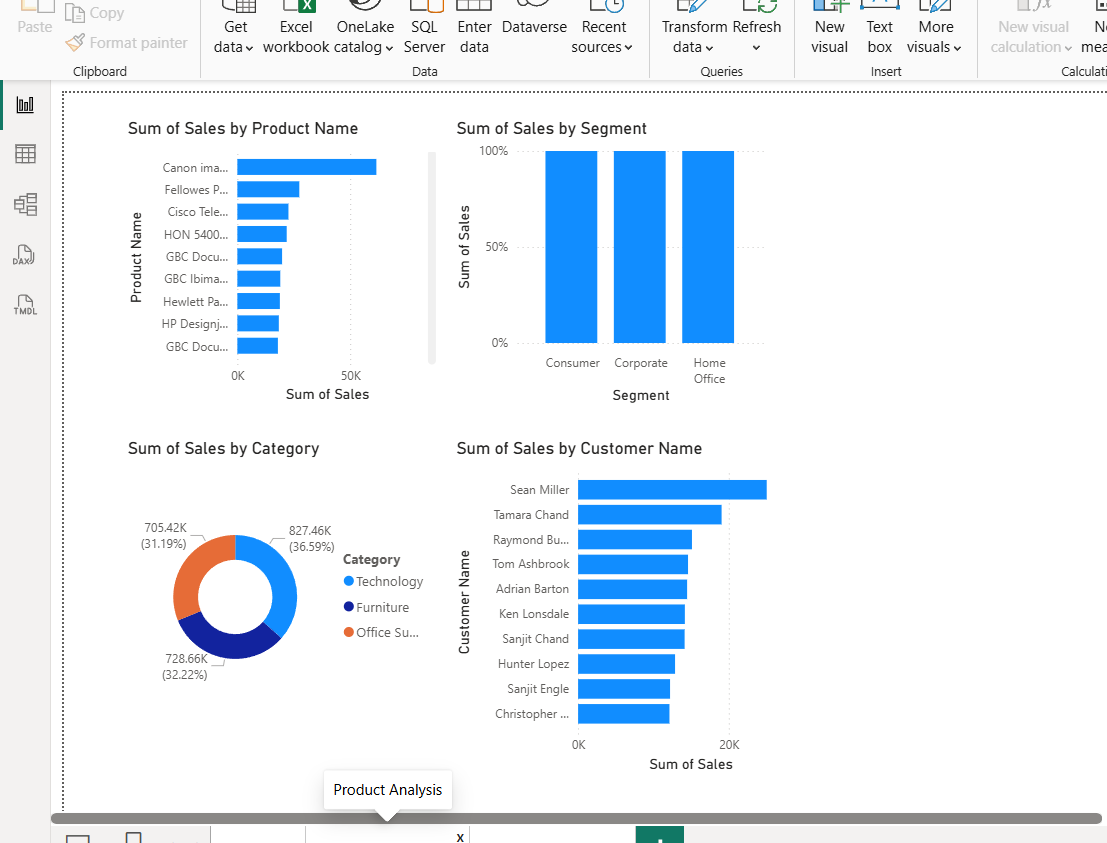

The page's visual inventory and layout, read from the dashboard file:
{"tool":"powerbi","page":{"name":"Product Analysis","canvas":[1280,720],"ordinal":1},"visuals":[{"type":"clusteredBarChart","fields":{"Category":["sales.Product Name"],"Y":["Sum(sales.Sales)"]},"box":[59,24.7,318.4,289.5],"z":0},{"type":"donutChart","fields":{"Category":["sales.Category"],"Y":["Sum(sales.Sales)"]},"box":[59,344.4,318.4,299.1],"z":1000},{"type":"hundredPercentStackedColumnChart","fields":{"Category":["sales.Segment"],"Y":["Sum(sales.Sales)"]},"box":[387,25,318,290],"z":2000},{"type":"barChart","fields":{"Category":["sales.Customer Name"],"Y":["Sum(sales.Sales)"]},"box":[387,344.4,367.8,338.9],"z":3000}]}

Visuals, with their boxes on the page's 1280x720 design canvas (x1, y1, x2, y2). These are canvas units, not pixel positions in the 1107x843 screenshot, which may show the page scaled, cropped or inside an application window:
clusteredBarChart - sales.Product Name x Sum(sales.Sales): {"left": 59, "top": 25, "right": 377, "bottom": 314}
donutChart - sales.Category x Sum(sales.Sales): {"left": 59, "top": 344, "right": 377, "bottom": 644}
hundredPercentStackedColumnChart - sales.Segment x Sum(sales.Sales): {"left": 387, "top": 25, "right": 705, "bottom": 315}
barChart - sales.Customer Name x Sum(sales.Sales): {"left": 387, "top": 344, "right": 755, "bottom": 683}
